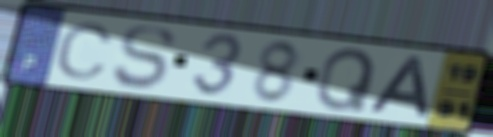3: (187, 31, 245, 100)
8: (251, 39, 304, 106)
A: (363, 54, 434, 121)
C: (52, 21, 117, 81)
Q: (313, 46, 380, 112)
S: (110, 25, 178, 91)
